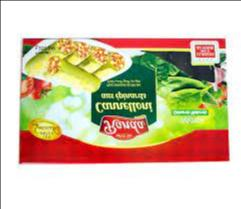Cannelloni: (19, 38, 229, 163)
